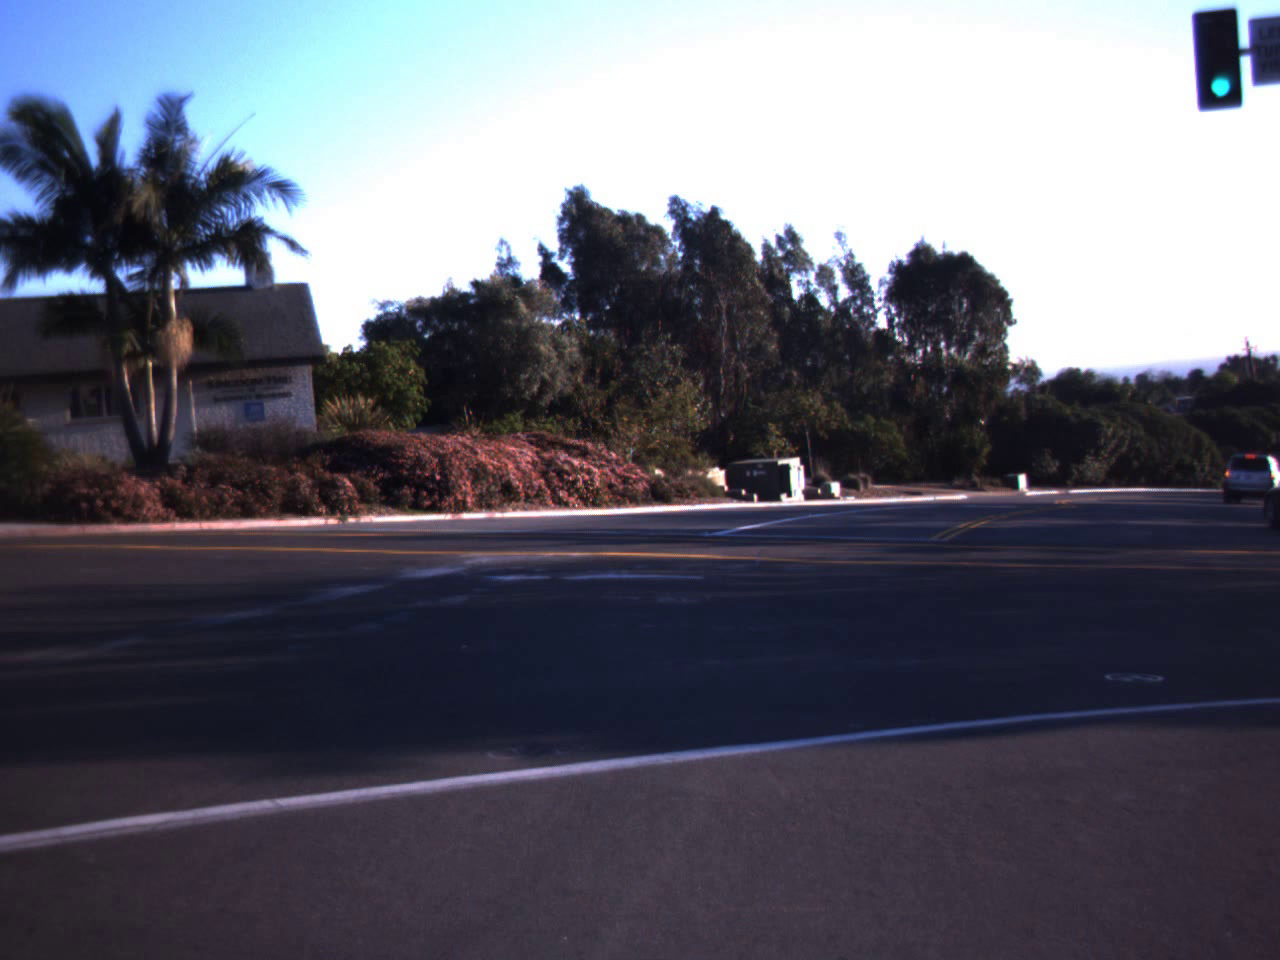go: (1195, 24, 1246, 104)
